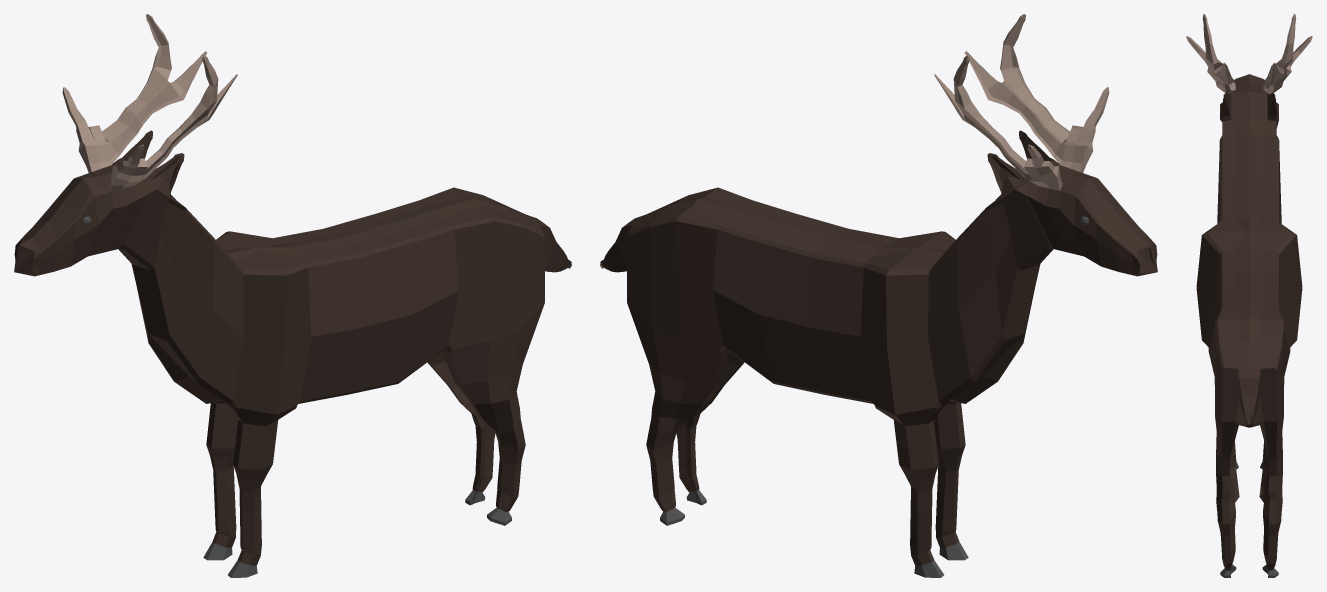
Rendered from visayanspotteddeersmuscleupdate.fbx.
The picture shows the model from 3 angles, left to right: view 1: azimuth 30°, elevation 25°; view 2: azimuth 150°, elevation 25°; view 3: azimuth 270°, elevation 25°; orthographic projection. The views are drawn at different scales.
Visible parts, largest first — view 1: Plane; view 2: Plane; view 3: Plane.
Boxes of the visible parts, x1=… form: Plane: x1=14, y1=14, x2=571, y2=577; Plane: x1=600, y1=14, x2=1157, y2=577; Plane: x1=1186, y1=14, x2=1312, y2=577.
Bounding box in the file's own units: 368 × 350 × 91.02.
